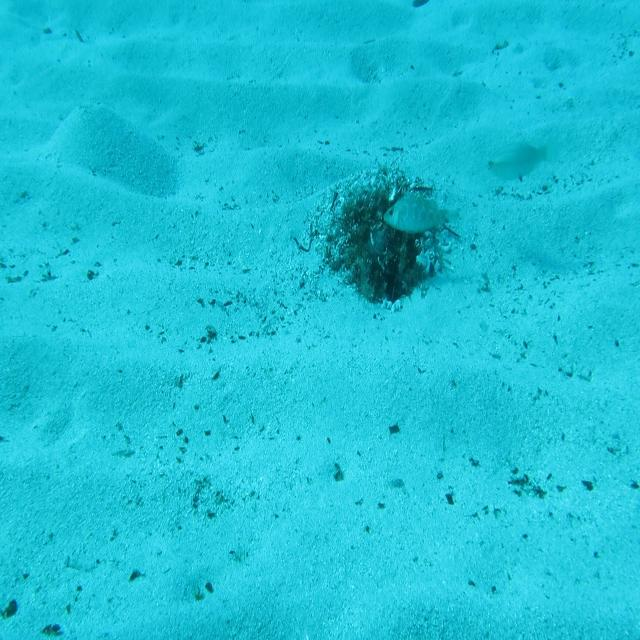BK_SW: (376, 180, 465, 240)
female: (488, 125, 556, 190)
nest: (324, 172, 461, 300)
